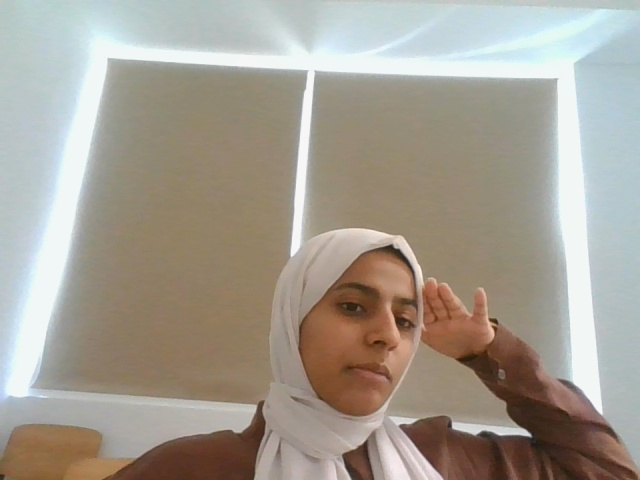hello: (415, 267, 507, 371)
